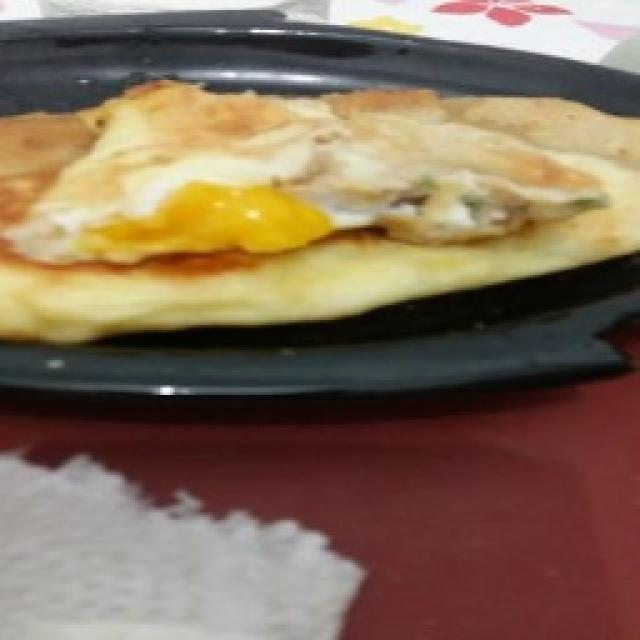Brik: (0, 0, 640, 385)
